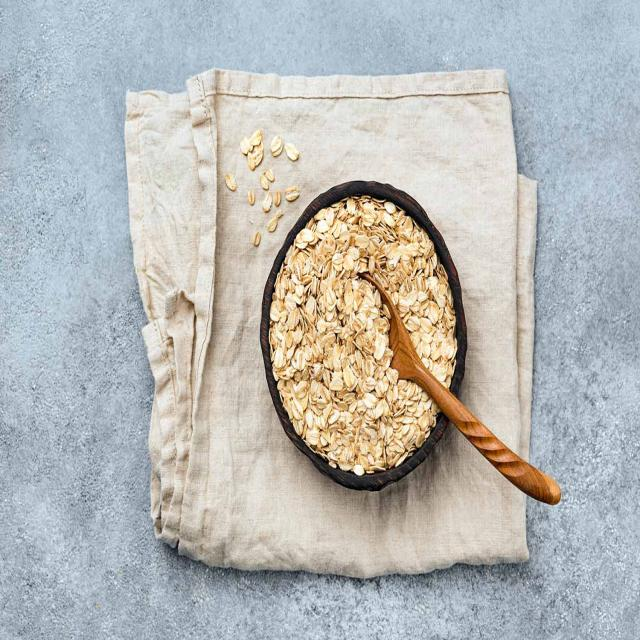avena: (267, 192, 459, 477)
